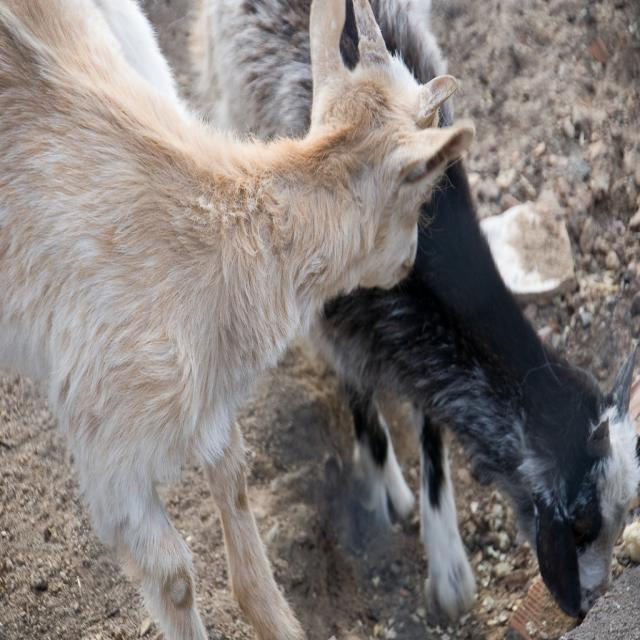Goat: (0, 0, 475, 640), (177, 0, 640, 621)
